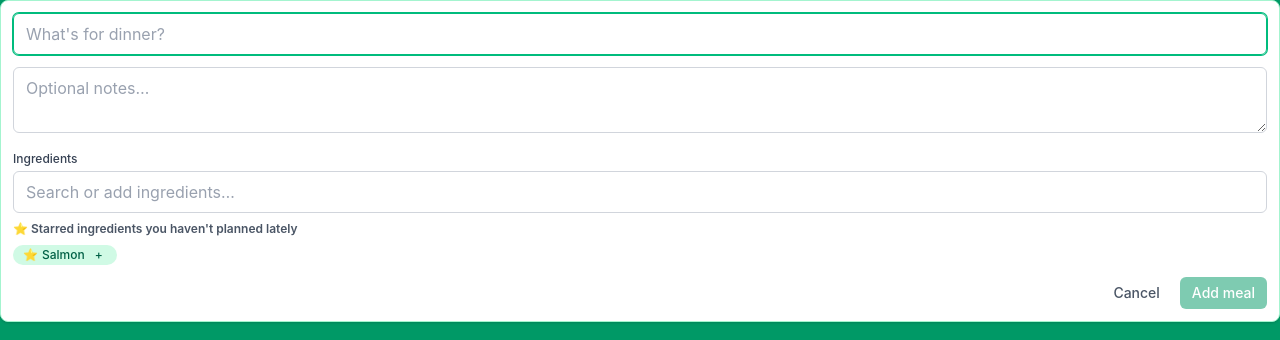
Test: MealPlanForm › shows autocomplete dropdown when typing in ingredient search
This screenshot has width=1280, height=340.
In the field with placeholder "Search or add ingredients…": (640, 192) [13,171,1267,213], type "Sal"
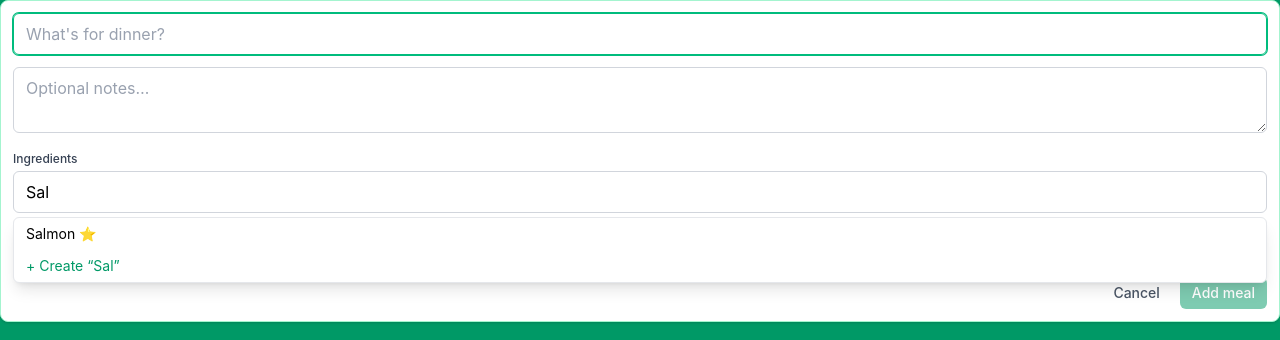
Check: the element with test id "ingredient-dropdown" is shown, box [13,217,1267,283]
Check: the button "Salmon ⭐" is shown, box [14,218,1266,250]
